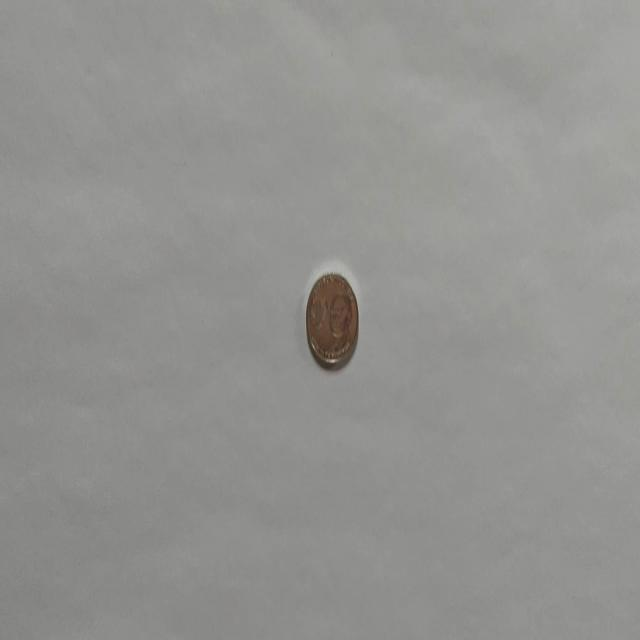lima ratus rupiah: (304, 269, 360, 368)
